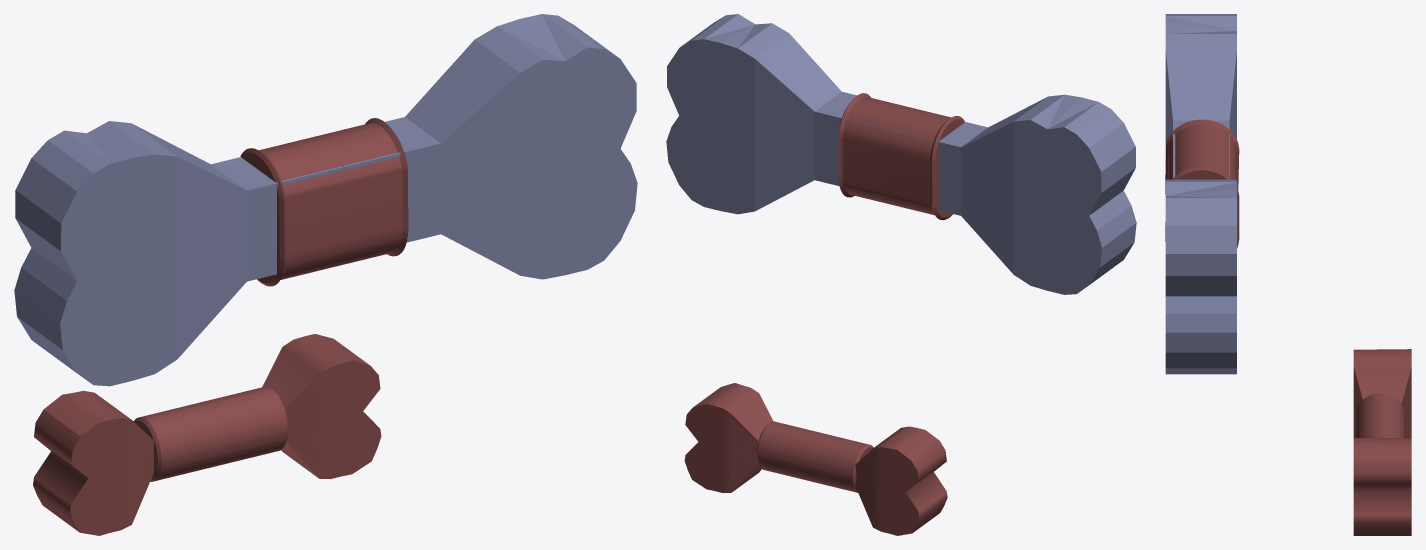
File: DOg bones.fbx
3 renders of one model, left to right at view 1: azimuth 30°, elevation 25°; view 2: azimuth 150°, elevation 25°; view 3: azimuth 270°, elevation 25°, orthographic. The views are drawn at different scales.
Parts seen in each view (by area): view 1: pCube6, pCube3, pCylinder2, pCylinder1; view 2: pCube6, pCube3, pCylinder2, pCylinder1; view 3: pCube6, pCube3, pCylinder2, pCylinder1.
Boxes of the visible parts, box(x1,y1,x2,y2) form: pCube6: box(14, 14, 637, 386); pCube3: box(33, 334, 381, 535); pCylinder2: box(240, 118, 408, 286); pCylinder1: box(133, 386, 288, 481); pCube6: box(666, 14, 1136, 294); pCube3: box(684, 383, 947, 535); pCylinder2: box(838, 93, 964, 220); pCylinder1: box(757, 421, 873, 492); pCube6: box(1165, 14, 1236, 374); pCube3: box(1353, 349, 1411, 535); pCylinder2: box(1165, 119, 1239, 247); pCylinder1: box(1355, 393, 1404, 437).
Bounding box in the file's own units: 11.69 × 9.42 × 5.53.
